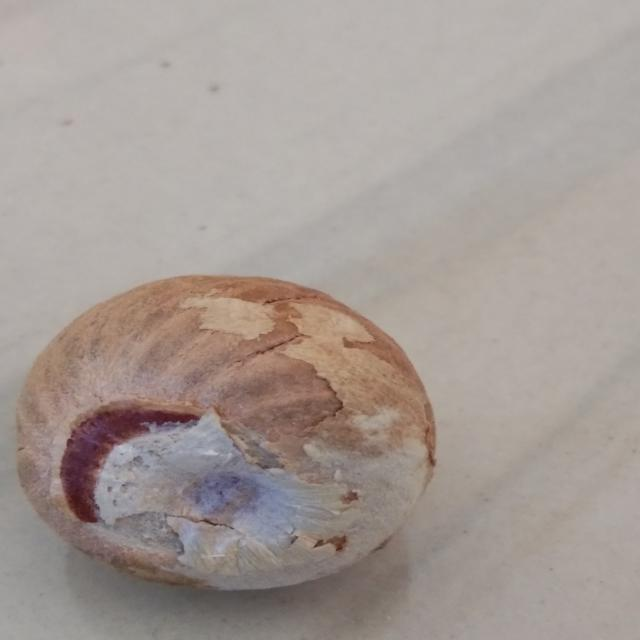phatora: (6, 256, 480, 616)
